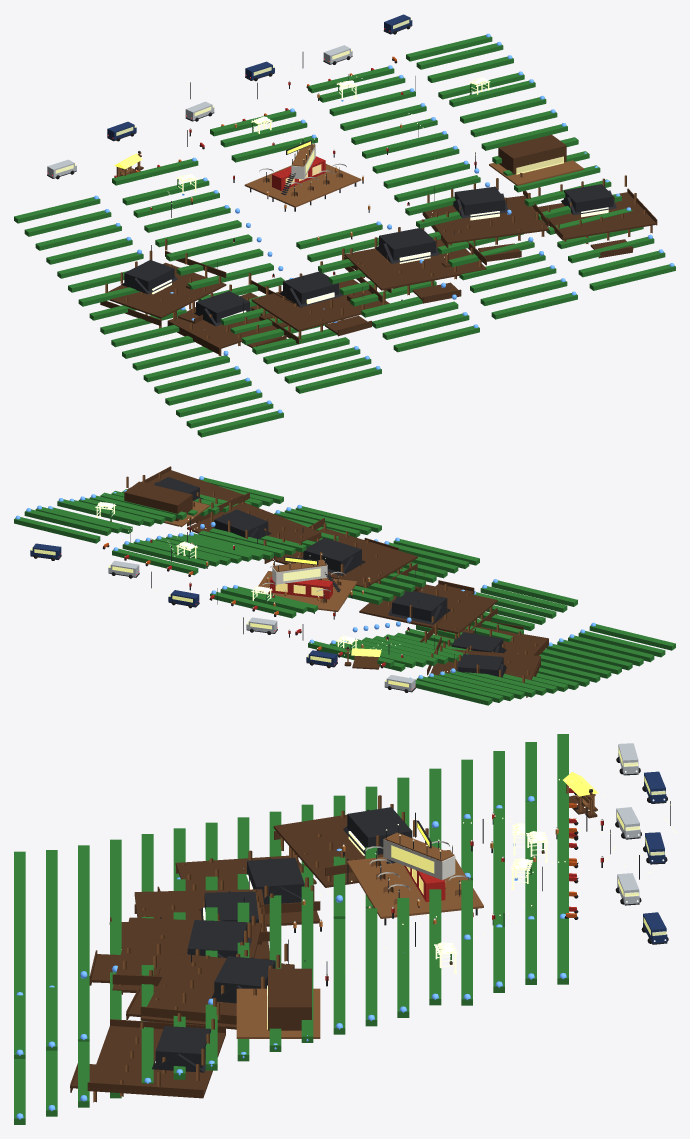
The model's file is ul_w6_01_cau_dat_container_cafe_cloud_decks_and_tour_vans.glb.
The picture shows the model from 3 angles, top to bottom: view 1: azimuth 30°, elevation 25°; view 2: azimuth 150°, elevation 25°; view 3: azimuth 270°, elevation 25°; orthographic projection. The views are drawn at different scales.
Parts seen in each view (by area): view 1: ul_w6_01_tea_hedge_green, ul_w6_01_cedar_dark_wood, ul_w6_01_dark_iron_frame, ul_w6_01_pine_deck_wood, ul_w6_01_warm_string_bulb, ul_w6_01_hydrangea_blue, ul_w6_01_tour_van_silver, ul_w6_01_tour_van_navy, ul_w6_01_warm_cafe_window, ul_w6_01_container_red; view 2: ul_w6_01_tea_hedge_green, ul_w6_01_cedar_dark_wood, ul_w6_01_dark_iron_frame, ul_w6_01_pine_deck_wood, ul_w6_01_warm_cafe_window, ul_w6_01_tour_van_navy, ul_w6_01_tour_van_silver, ul_w6_01_container_red, ul_w6_01_hydrangea_blue, ul_w6_01_warm_string_bulb, ul_w6_01_container_white; view 3: ul_w6_01_tea_hedge_green, ul_w6_01_cedar_dark_wood, ul_w6_01_dark_iron_frame, ul_w6_01_pine_deck_wood, ul_w6_01_warm_string_bulb, ul_w6_01_container_white, ul_w6_01_tour_van_silver, ul_w6_01_tour_van_navy, ul_w6_01_warm_cafe_window, ul_w6_01_hydrangea_blue, ul_w6_01_container_red.
Part boxes in pixels (x1,y1,x2,y2): ul_w6_01_tea_hedge_green: [14, 35, 675, 437]; ul_w6_01_cedar_dark_wood: [100, 94, 657, 354]; ul_w6_01_dark_iron_frame: [47, 25, 616, 326]; ul_w6_01_pine_deck_wood: [105, 144, 652, 355]; ul_w6_01_warm_string_bulb: [127, 52, 608, 318]; ul_w6_01_hydrangea_blue: [94, 33, 674, 413]; ul_w6_01_tour_van_silver: [47, 45, 352, 177]; ul_w6_01_tour_van_navy: [107, 14, 412, 140]; ul_w6_01_warm_cafe_window: [55, 18, 563, 186]; ul_w6_01_container_red: [114, 68, 476, 277]; ul_w6_01_tea_hedge_green: [14, 477, 675, 705]; ul_w6_01_cedar_dark_wood: [110, 466, 548, 697]; ul_w6_01_dark_iron_frame: [30, 477, 506, 692]; ul_w6_01_pine_deck_wood: [126, 473, 543, 683]; ul_w6_01_warm_cafe_window: [31, 545, 408, 687]; ul_w6_01_tour_van_navy: [30, 543, 337, 666]; ul_w6_01_tour_van_silver: [108, 560, 415, 691]; ul_w6_01_container_red: [124, 527, 409, 666]; ul_w6_01_hydrangea_blue: [15, 476, 595, 678]; ul_w6_01_warm_string_bulb: [95, 501, 450, 672]; ul_w6_01_container_white: [150, 526, 408, 655]; ul_w6_01_tea_hedge_green: [14, 734, 568, 1124]; ul_w6_01_cedar_dark_wood: [70, 795, 597, 1098]; ul_w6_01_dark_iron_frame: [152, 773, 670, 1072]; ul_w6_01_pine_deck_wood: [93, 784, 595, 1102]; ul_w6_01_warm_string_bulb: [155, 779, 675, 1062]; ul_w6_01_container_white: [294, 812, 602, 976]; ul_w6_01_tour_van_silver: [616, 743, 640, 904]; ul_w6_01_tour_van_navy: [643, 771, 667, 943]; ul_w6_01_warm_cafe_window: [267, 747, 666, 1029]; ul_w6_01_hydrangea_blue: [16, 796, 566, 1119]; ul_w6_01_container_red: [325, 788, 603, 980].
Size of the model in its own units: 110 by 34.01 by 87.01.
